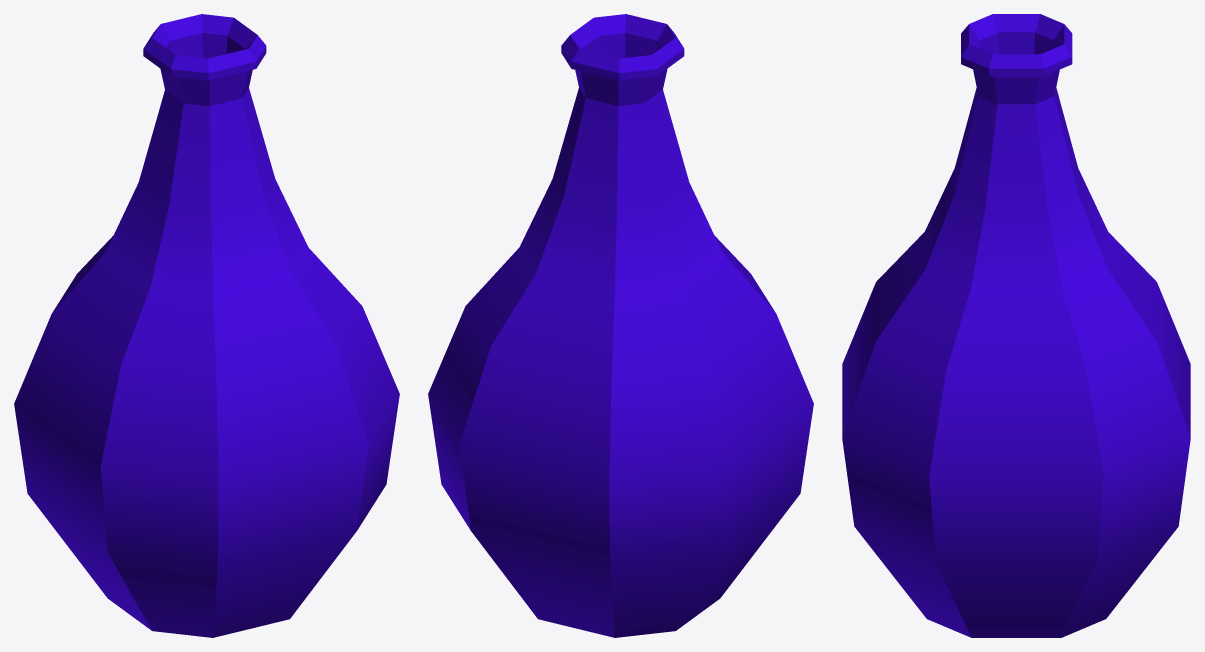
The model's file is vase_2_Unbroken.fbx.
3 renders of one model, left to right at view 1: azimuth 30°, elevation 25°; view 2: azimuth 150°, elevation 25°; view 3: azimuth 270°, elevation 25°, orthographic.
Parts seen in each view (by area): view 1: vase_2_Unbroken; view 2: vase_2_Unbroken; view 3: vase_2_Unbroken.
Part boxes in pixels (x1=…): vase_2_Unbroken: x1=14, y1=14, x2=399, y2=637; vase_2_Unbroken: x1=428, y1=14, x2=813, y2=637; vase_2_Unbroken: x1=842, y1=14, x2=1190, y2=637.
Size of the model in its own units: 0.6265 by 1.12 by 0.6265.
